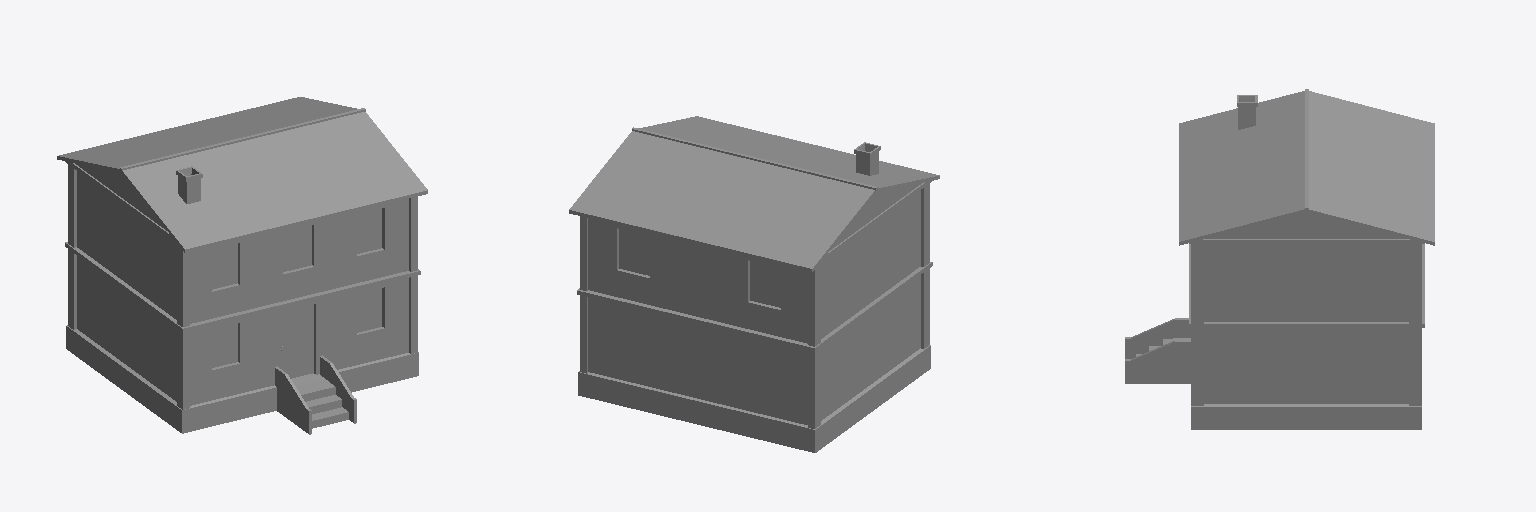
Rendered from Brick_House.obj.
3 renders of one model, left to right at view 1: azimuth 30°, elevation 25°; view 2: azimuth 150°, elevation 25°; view 3: azimuth 270°, elevation 25°, orthographic.
Parts seen in each view (by area): view 1: House_Cube; view 2: House_Cube; view 3: House_Cube.
Boxes of the visible parts, box(x1,y1,x2,y2) form: House_Cube: box(57, 97, 427, 434); House_Cube: box(569, 116, 939, 452); House_Cube: box(1125, 89, 1434, 429).
Size of the model in its own units: 11.23 by 10.22 by 12.31.